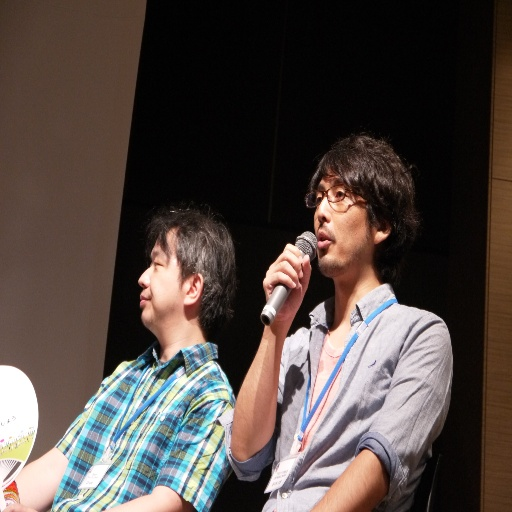hand: (256, 254, 317, 362), (0, 500, 37, 511)
